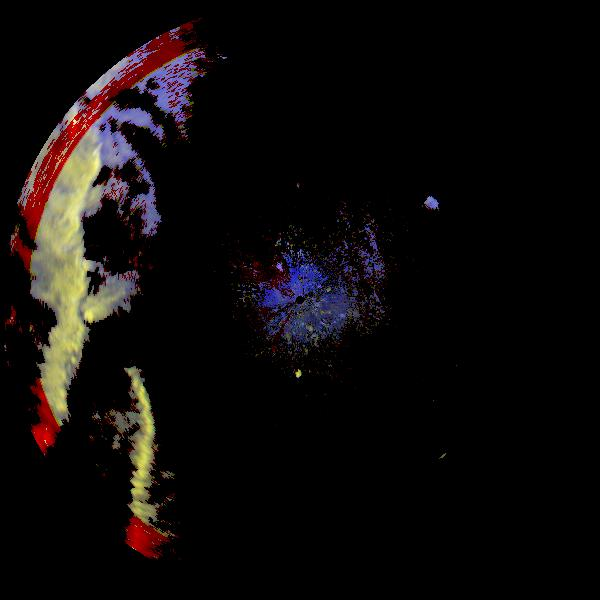roost: (419, 194, 443, 218)
